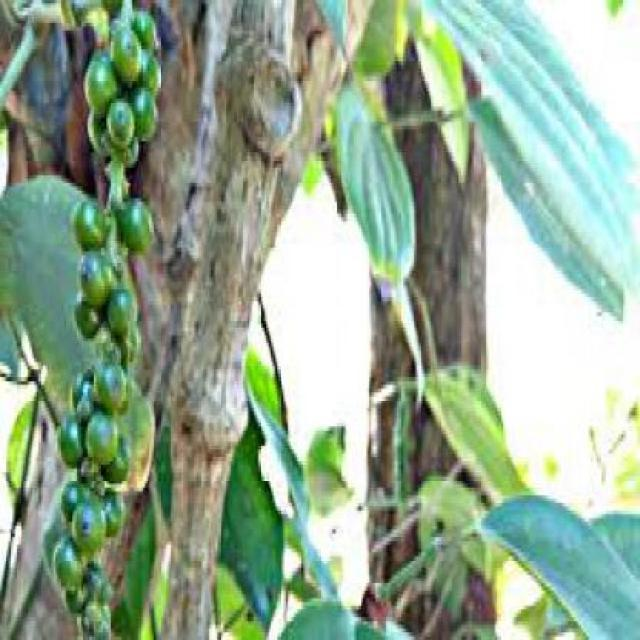UNRIPE: (55, 8, 162, 629)
